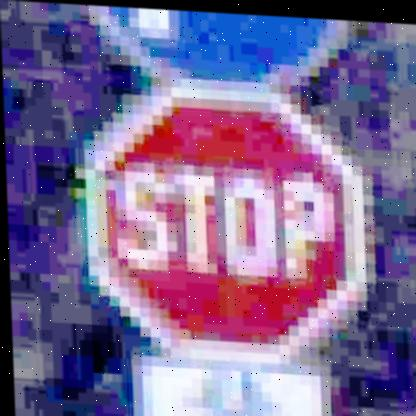Stop Sign: (82, 77, 374, 365)
